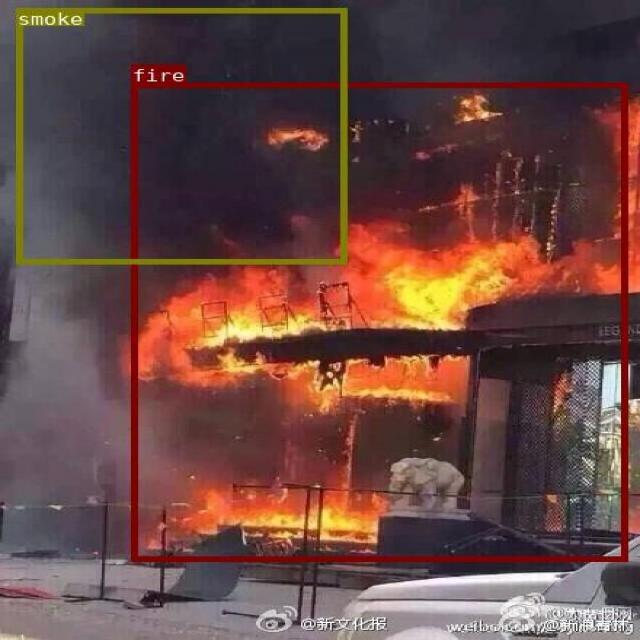fire: (131, 82, 627, 560)
smoke: (15, 7, 345, 263)
